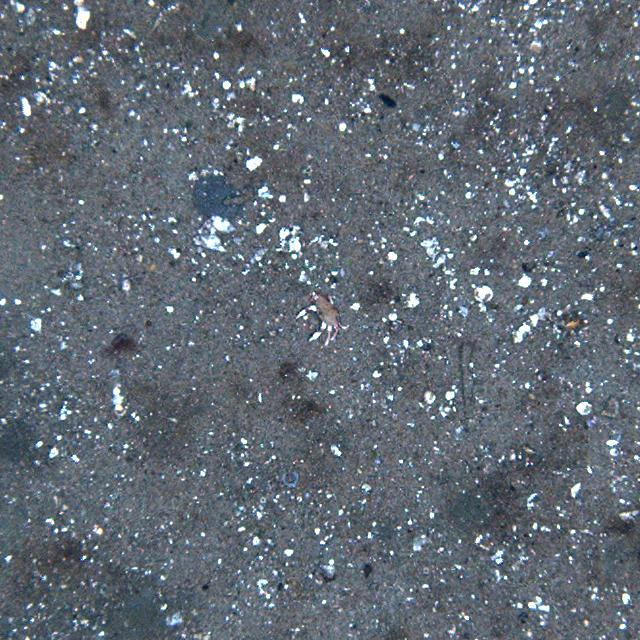crab: (294, 291, 344, 347)
